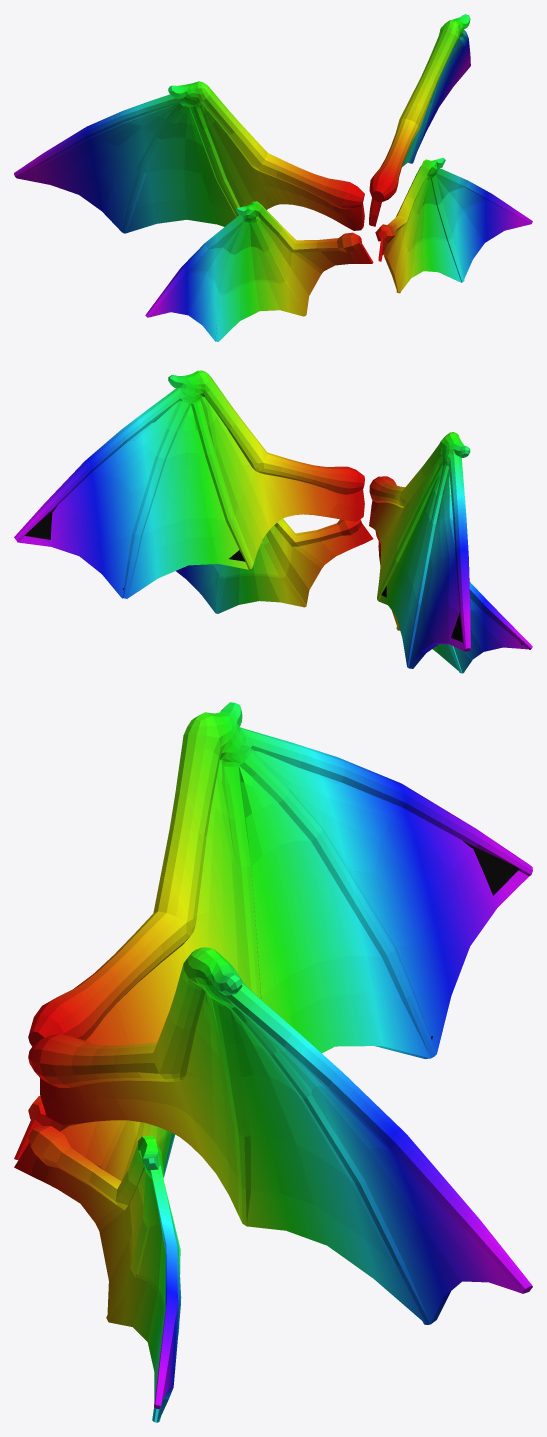
File: bat_wing_rainbow_effect.fbx
3 renders of one model, top to bottom at view 1: azimuth 30°, elevation 25°; view 2: azimuth 150°, elevation 25°; view 3: azimuth 270°, elevation 25°, orthographic. The views are drawn at different scales.
Visible parts, largest first — view 1: bat_wing_fx; view 2: bat_wing_fx; view 3: bat_wing_fx.
Part boxes in pixels (bbox=[...]): bat_wing_fx: bbox=[14, 14, 532, 341]; bat_wing_fx: bbox=[14, 370, 532, 673]; bat_wing_fx: bbox=[14, 702, 532, 1422].
Bounding box in the file's own units: 1.55 × 0.8146 × 0.8034.
